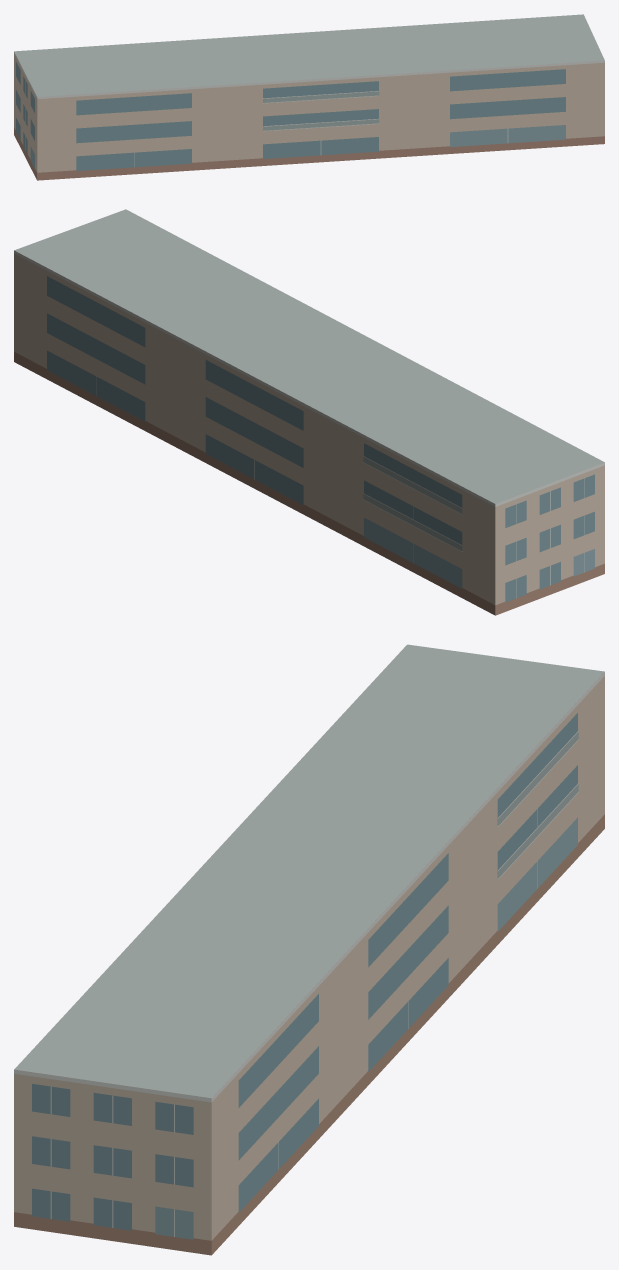
The model's file is residential-d268ca3a-07b6-4ace-a043-acfeb2814833.glb.
3 renders of one model, top to bottom at view 1: azimuth 30°, elevation 25°; view 2: azimuth 150°, elevation 25°; view 3: azimuth 270°, elevation 25°, orthographic. The views are drawn at different scales.
Visible parts, largest first — view 1: residential-d268ca3a-07b6-4ace-a043-acfeb2814833.tmp; view 2: residential-d268ca3a-07b6-4ace-a043-acfeb2814833.tmp; view 3: residential-d268ca3a-07b6-4ace-a043-acfeb2814833.tmp.
Part boxes in pixels (left/top/right/bottom): residential-d268ca3a-07b6-4ace-a043-acfeb2814833.tmp: left=14, top=14, right=604, bottom=180; residential-d268ca3a-07b6-4ace-a043-acfeb2814833.tmp: left=14, top=209, right=604, bottom=615; residential-d268ca3a-07b6-4ace-a043-acfeb2814833.tmp: left=14, top=644, right=604, bottom=1255.
Size of the model in its own units: 56.66 by 9.15 by 31.18.
